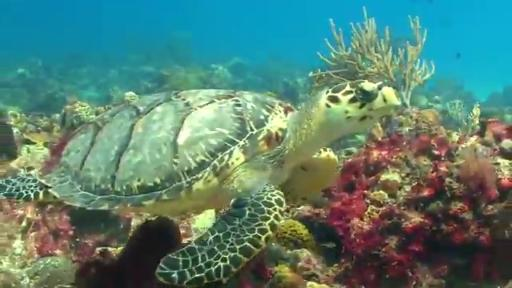Fish: (0, 80, 399, 286)
